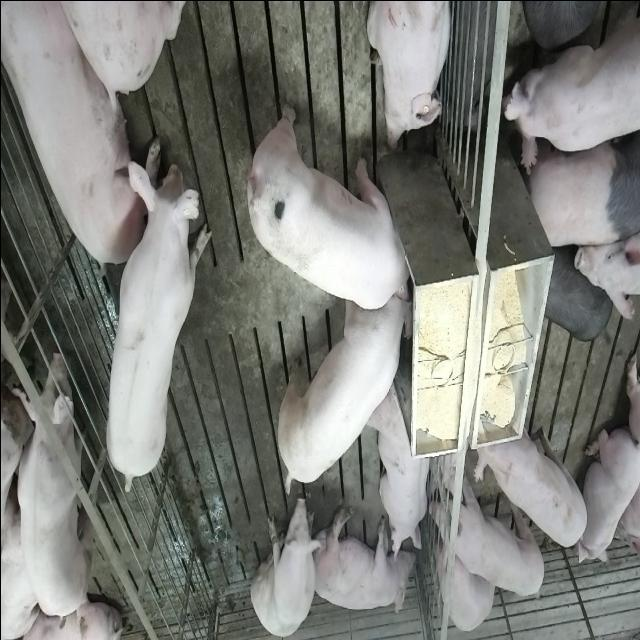Feeding: (249, 102, 420, 310), (274, 280, 410, 494)
Lateral_lying: (310, 504, 414, 618)
Sitting: (250, 492, 323, 637)
Standing: (101, 152, 208, 492), (2, 334, 96, 630), (499, 0, 639, 168), (474, 405, 588, 549), (521, 126, 637, 256), (430, 481, 543, 598), (524, 0, 610, 49)
Sternal_lying: (365, 0, 454, 149), (369, 378, 432, 560), (579, 418, 638, 567)
